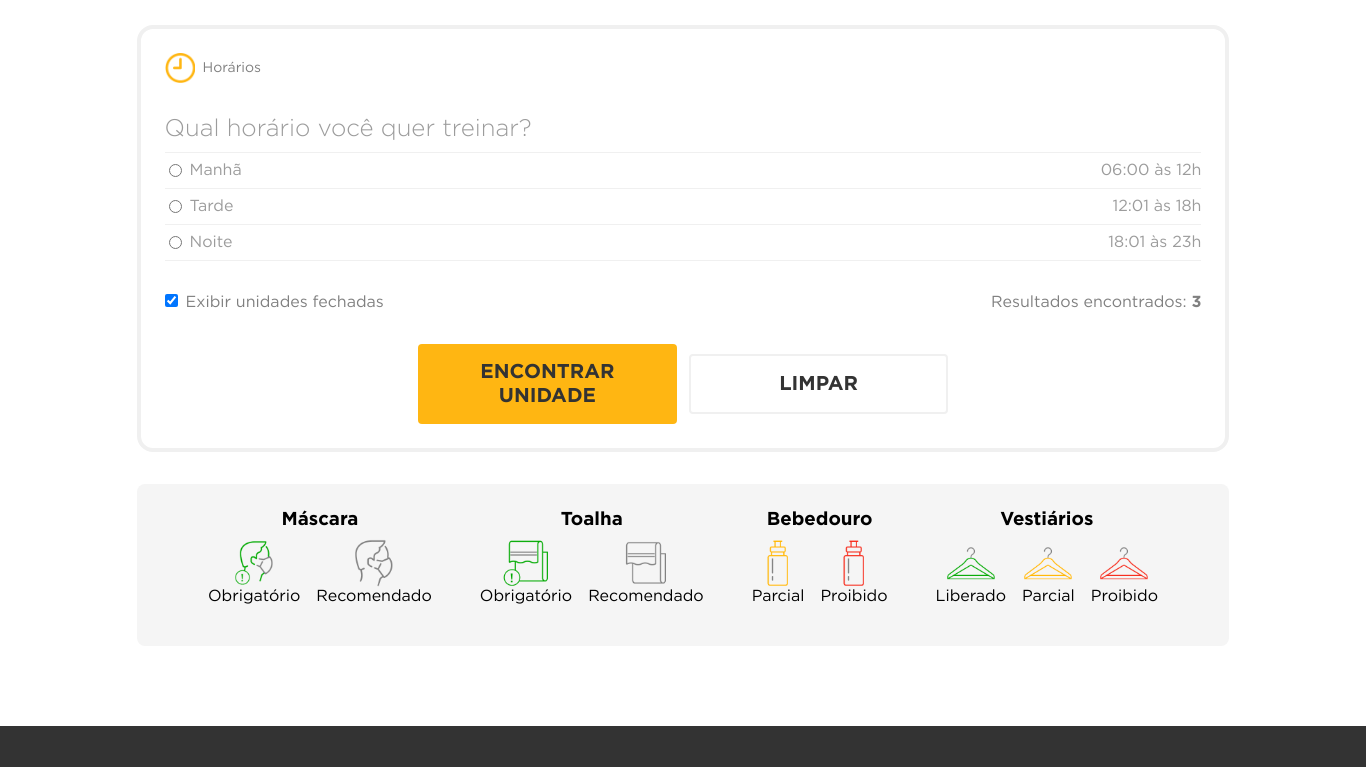
Scenario: Main.cy.ts › should show an error toast when the form is submitted without selecting a time
(page scrolled)
Click the button "Encontrar unidade".
click(548, 384)  # box top-left (418, 344), bottom-right (677, 424)
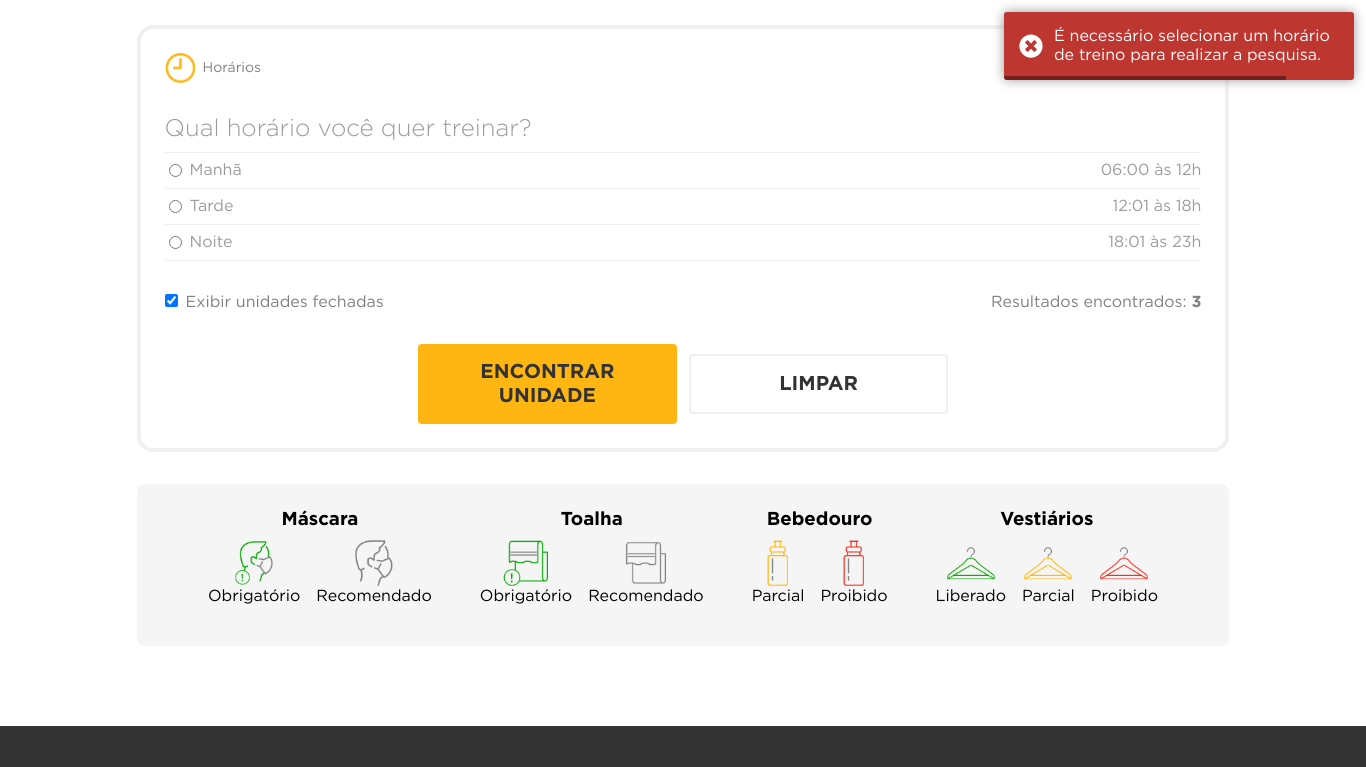
Check: the text "É necessário selecionar um horário de treino para realizar a pesquisa." is shown, box top-left (1054, 27), bottom-right (1339, 65)
